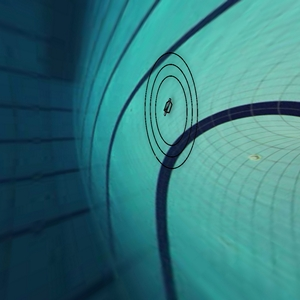circle: (127, 40, 222, 179)
submarine: (159, 93, 175, 119)
